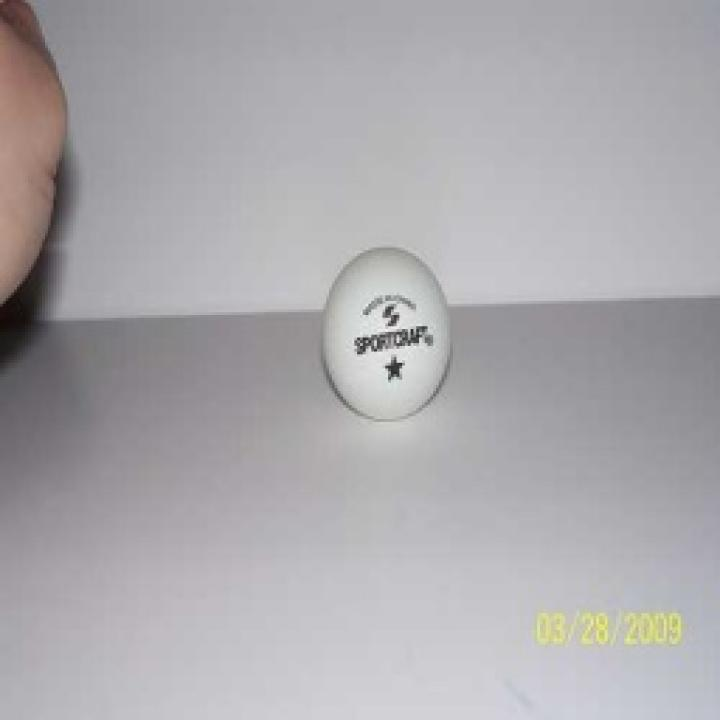white: (319, 245, 454, 420)
